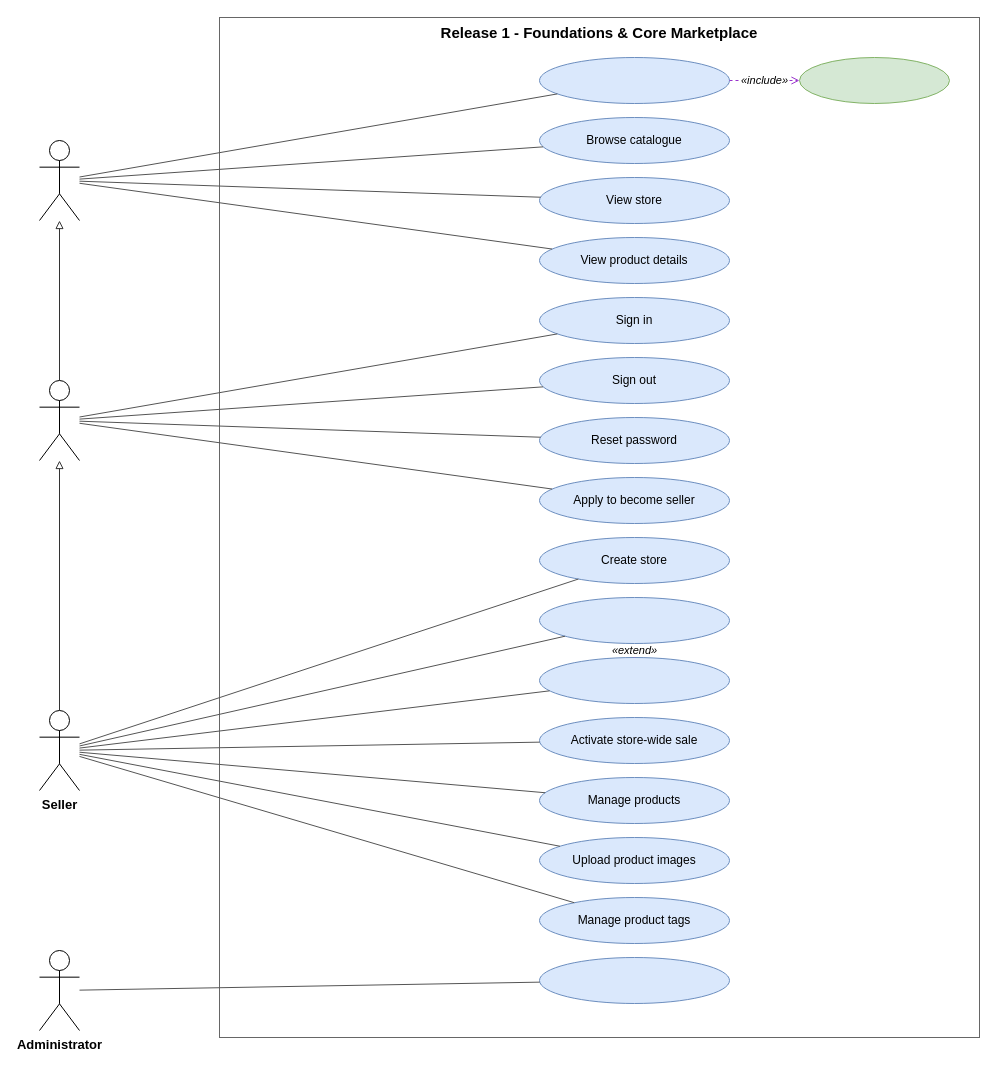
The diagram is 997 pixels wide and 1071 high, and some of its shapes have lost their labels. Here are the shapes that lost their labels. From the top down, the box of each, then its label:
(538, 56, 730, 104): Register
(798, 56, 950, 104): Verify email
(38, 140, 80, 220): Visitor
(38, 380, 80, 460): Customer
(538, 596, 730, 644): Customize storefront (WYSIWYG)
(538, 656, 730, 704): Apply style presets
(538, 956, 730, 1004): Review seller applications
